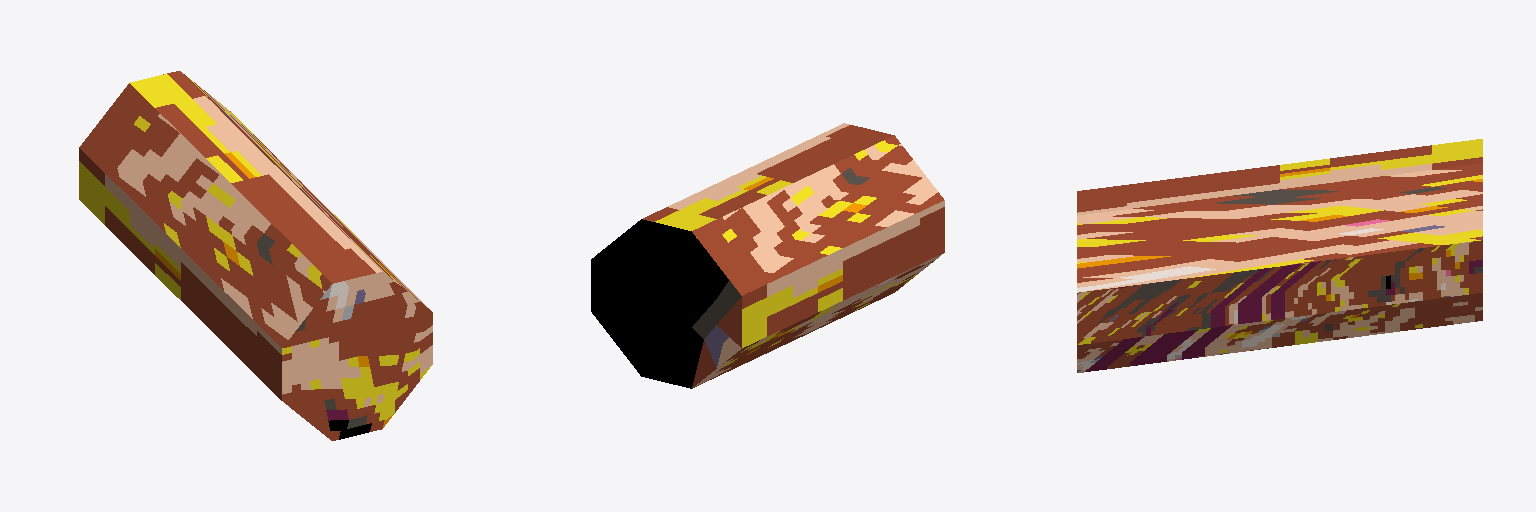
The picture shows the model from 3 angles: view 1: azimuth 30°, elevation 25°; view 2: azimuth 150°, elevation 25°; view 3: azimuth 270°, elevation 25°; orthographic projection.
Parts seen in each view (by area): view 1: cannon; view 2: cannon; view 3: cannon.
Part boxes in pixels (left/top/right/bottom): cannon: left=79, top=71, right=432, bottom=440; cannon: left=591, top=123, right=944, bottom=388; cannon: left=1077, top=139, right=1482, bottom=372.
Bounding box in the file's own units: 1.5 × 2 × 3.5.
1 materials, 1 textured.